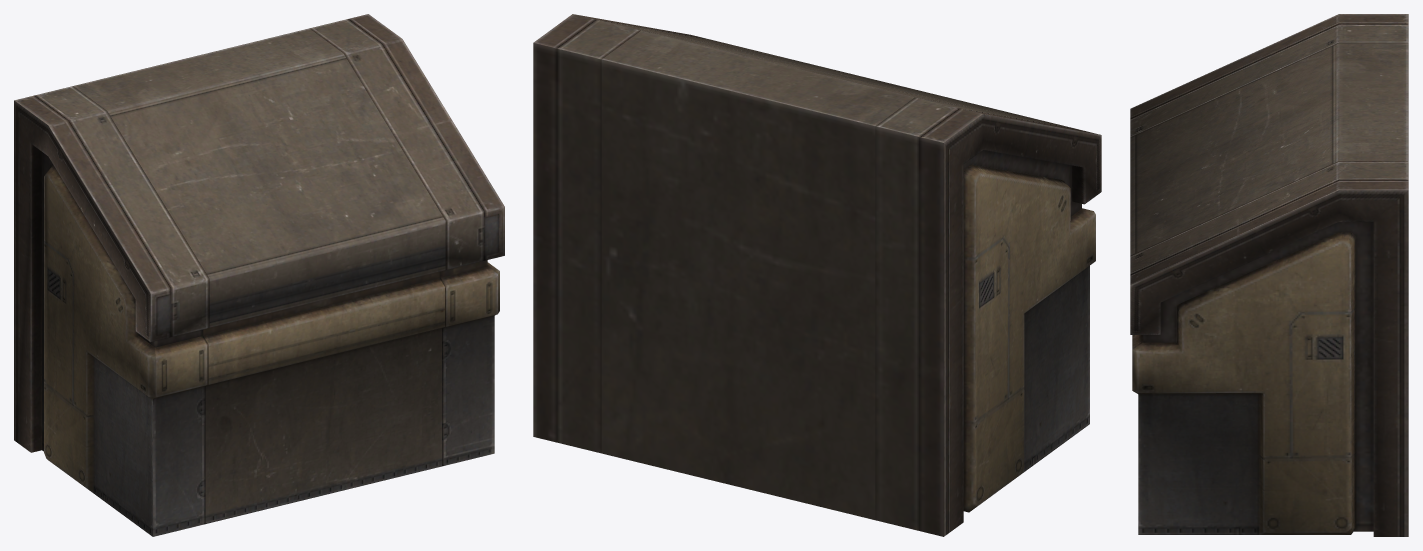
The model's file is computer_parts_chassis_small.dae.
3 views of the same model, side by side, from view 1: azimuth 30°, elevation 25°; view 2: azimuth 150°, elevation 25°; view 3: azimuth 270°, elevation 25° (orthographic). The views are drawn at different scales.
Visible parts, largest first — view 1: computer_parts_chassis_small; view 2: computer_parts_chassis_small; view 3: computer_parts_chassis_small.
Boxes of the visible parts, <box> form: computer_parts_chassis_small: <box>14,14,504,536</box>; computer_parts_chassis_small: <box>533,14,1101,536</box>; computer_parts_chassis_small: <box>1130,14,1408,536</box>.
Bounding box in the file's own units: 1.5 × 1.38 × 1.
